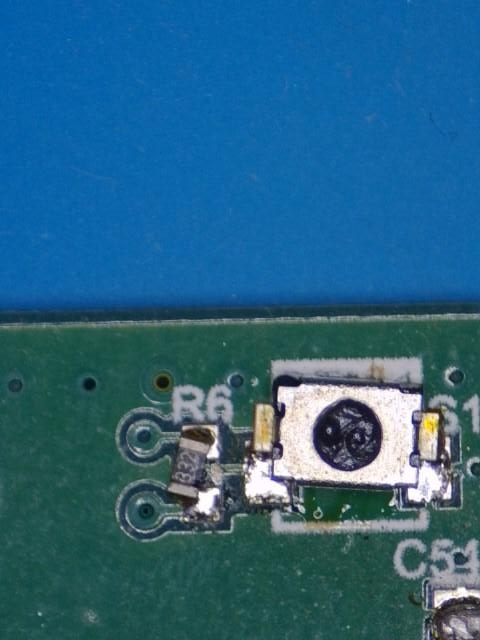pcb_defect: (245, 373, 451, 504), (166, 425, 220, 522)
